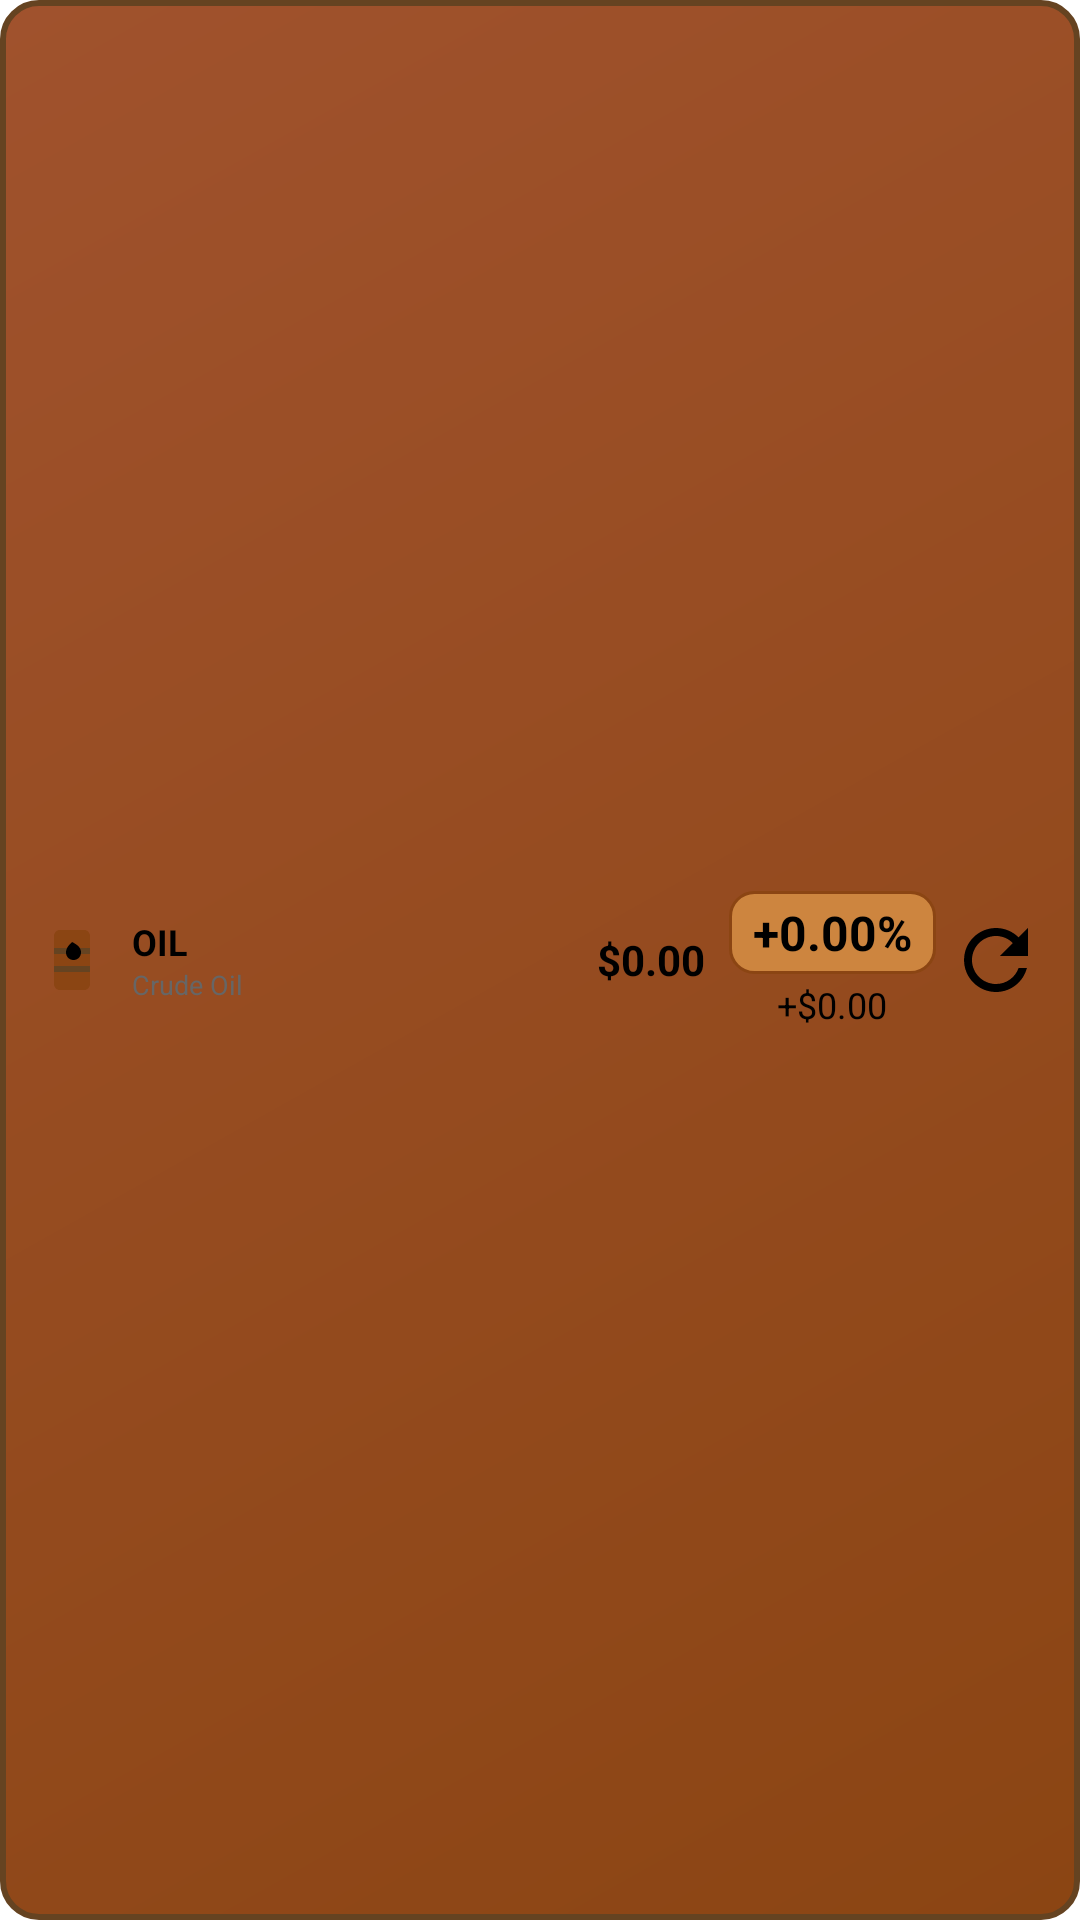

Icons on this 1080×1920 Android screen, each with the point to tap as (x,y):
refresh: (996,960)
